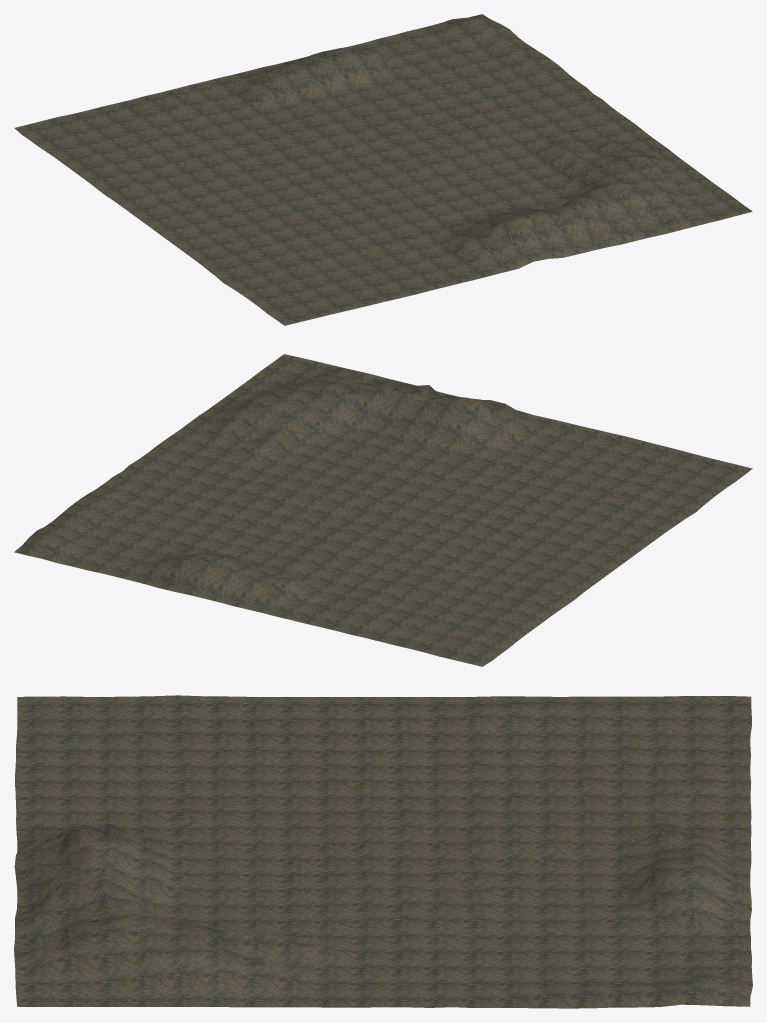
Rendered from Ground.fbx.
The picture shows the model from 3 angles, top to bottom: view 1: azimuth 30°, elevation 25°; view 2: azimuth 150°, elevation 25°; view 3: azimuth 270°, elevation 25°; orthographic projection. The views are drawn at different scales.
Visible parts, largest first — view 1: Object_2; view 2: Object_2; view 3: Object_2.
Boxes of the visible parts, left/top/right/bottom form: Object_2: left=14, top=14, right=752, bottom=325; Object_2: left=14, top=354, right=752, bottom=666; Object_2: left=14, top=695, right=752, bottom=1008.
Bounding box in the file's own units: 1622 × 86.65 × 1613.
Materials: 1 (1 with a texture image).
